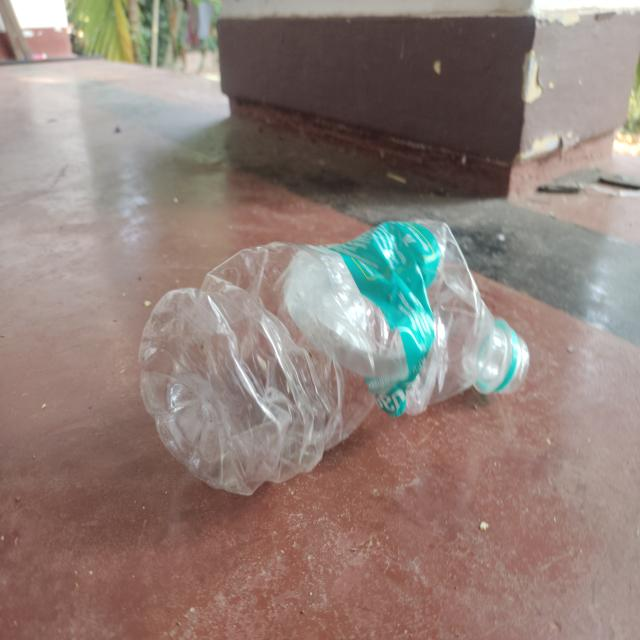plastic: (140, 220, 531, 497)
